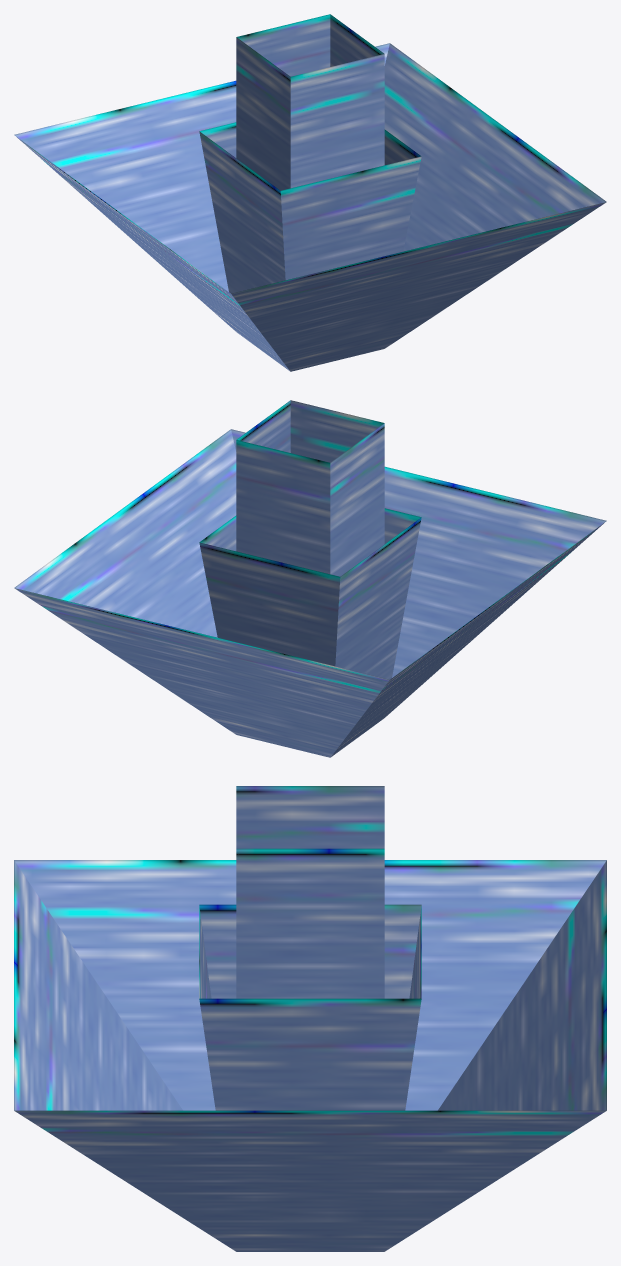
The model's file is SPLASH1.obj.
3 views of the same model, one above another, from view 1: azimuth 30°, elevation 25°; view 2: azimuth 150°, elevation 25°; view 3: azimuth 270°, elevation 25° (orthographic). The views are drawn at different scales.
Visible parts, largest first — view 1: cube, SPL2, SPL1; view 2: cube, SPL2, SPL1; view 3: cube, SPL2, SPL1.
Boxes of the visible parts, bbox=[...] form: cube: bbox=[14, 43, 606, 371]; SPL2: bbox=[236, 14, 384, 190]; SPL1: bbox=[199, 122, 421, 293]; cube: bbox=[14, 429, 606, 757]; SPL2: bbox=[236, 400, 384, 576]; SPL1: bbox=[199, 508, 421, 679]; cube: bbox=[14, 860, 606, 1251]; SPL2: bbox=[236, 786, 384, 998]; SPL1: bbox=[199, 904, 421, 1110].
Size of the model in its own units: 1 by 0.75 by 1.
